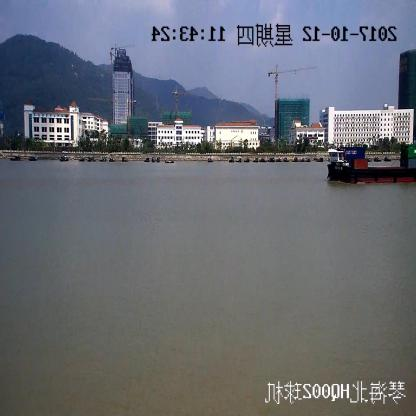Container Ship: (327, 144, 416, 184)
